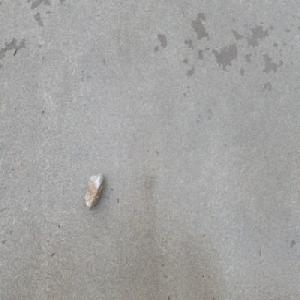Rock: (83, 167, 103, 210)
